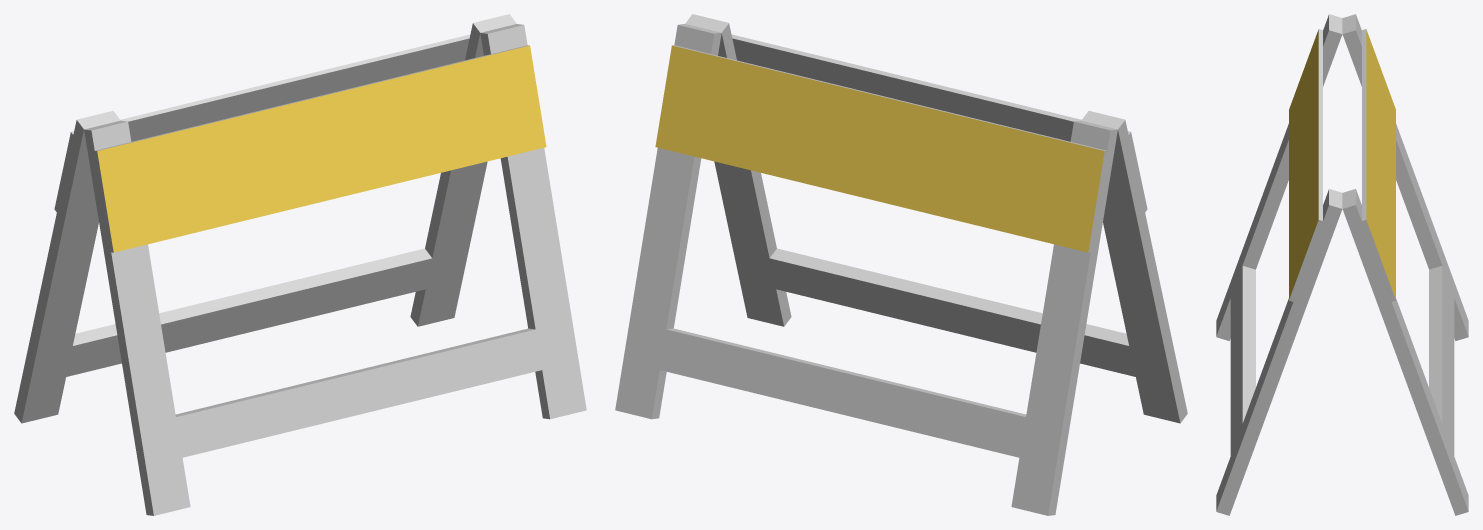
File: Barrier.fbx
3 renders of one model, left to right at view 1: azimuth 30°, elevation 25°; view 2: azimuth 150°, elevation 25°; view 3: azimuth 270°, elevation 25°, orthographic. The views are drawn at different scales.
Visible parts, largest first — view 1: Barrier; view 2: Barrier; view 3: Barrier.
Part boxes in pixels (<box>): Barrier: <box>14,14,586,515</box>; Barrier: <box>615,14,1187,515</box>; Barrier: <box>1216,14,1468,515</box>.
Bounding box in the file's own units: 192 × 146 × 107.
